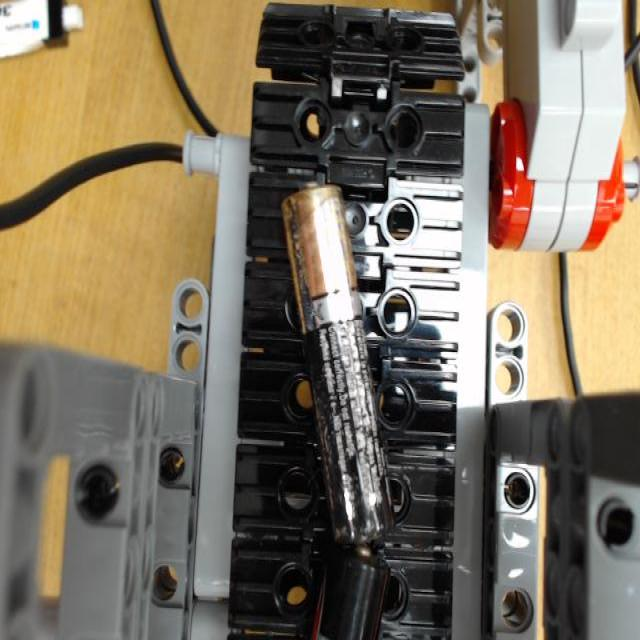AAA: (280, 181, 394, 544)
